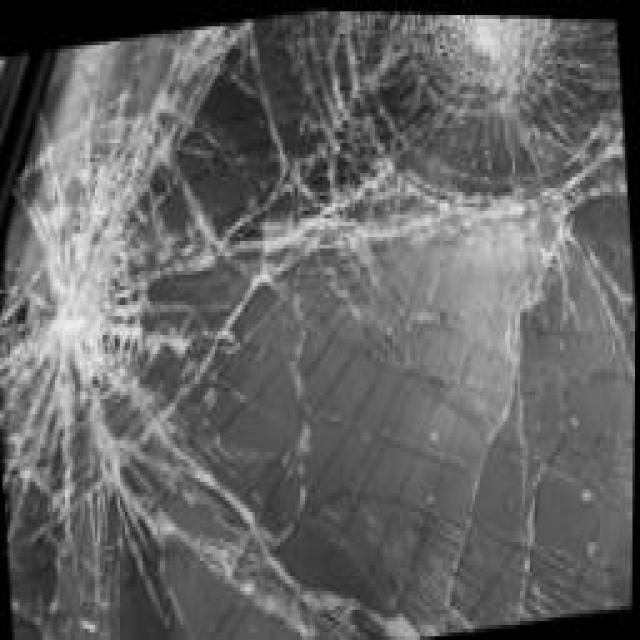Windshield: (0, 8, 637, 640)
